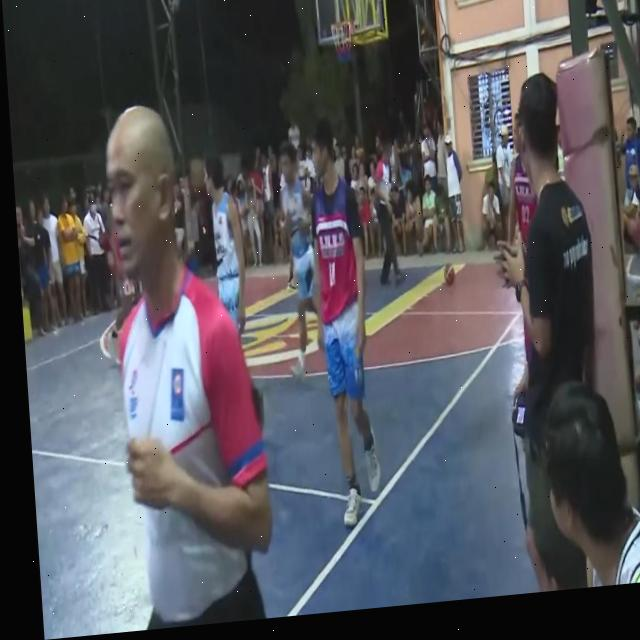basketball: (444, 260, 460, 289)
hoop: (328, 10, 361, 78)
